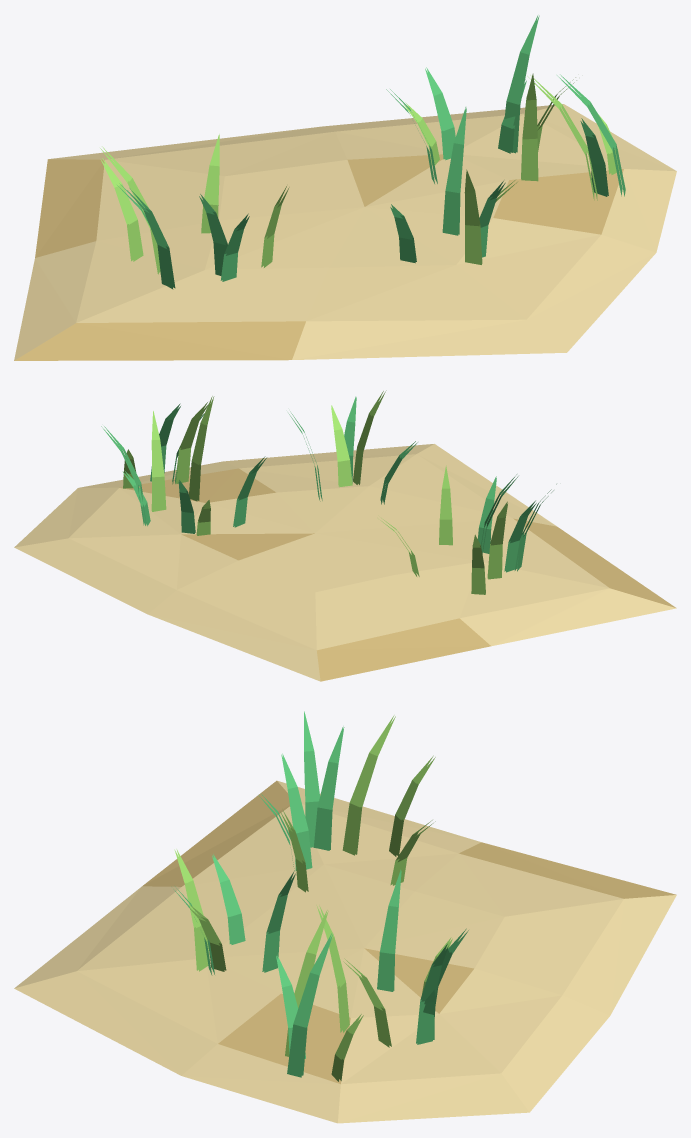
Rendered from floor_sand_grass.fbx.
3 renders of one model, top to bottom at view 1: azimuth 30°, elevation 25°; view 2: azimuth 150°, elevation 25°; view 3: azimuth 270°, elevation 25°, orthographic. The views are drawn at different scales.
Visible parts, largest first — view 1: floor_sand_grass; view 2: floor_sand_grass; view 3: floor_sand_grass.
Part boxes in pixels (x1,y1,x2,y2): floor_sand_grass: (14,15,676,360); floor_sand_grass: (14,390,676,681); floor_sand_grass: (14,711,676,1123).
Bounding box in the file's own units: 1914 × 379 × 1571.
Materials: 1 (1 with a texture image).
